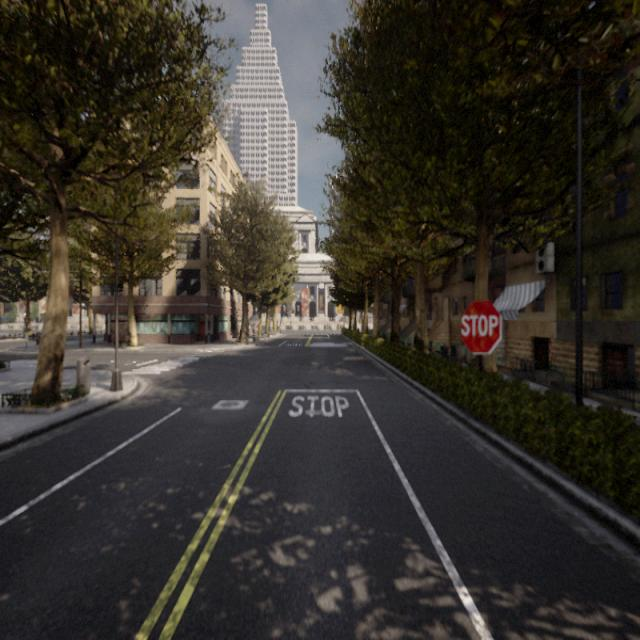stop sign: (458, 296, 503, 358), (461, 312, 499, 339)
